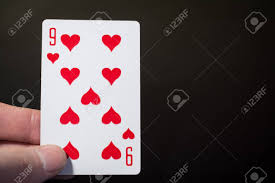nine of hearts: (41, 18, 141, 175)
